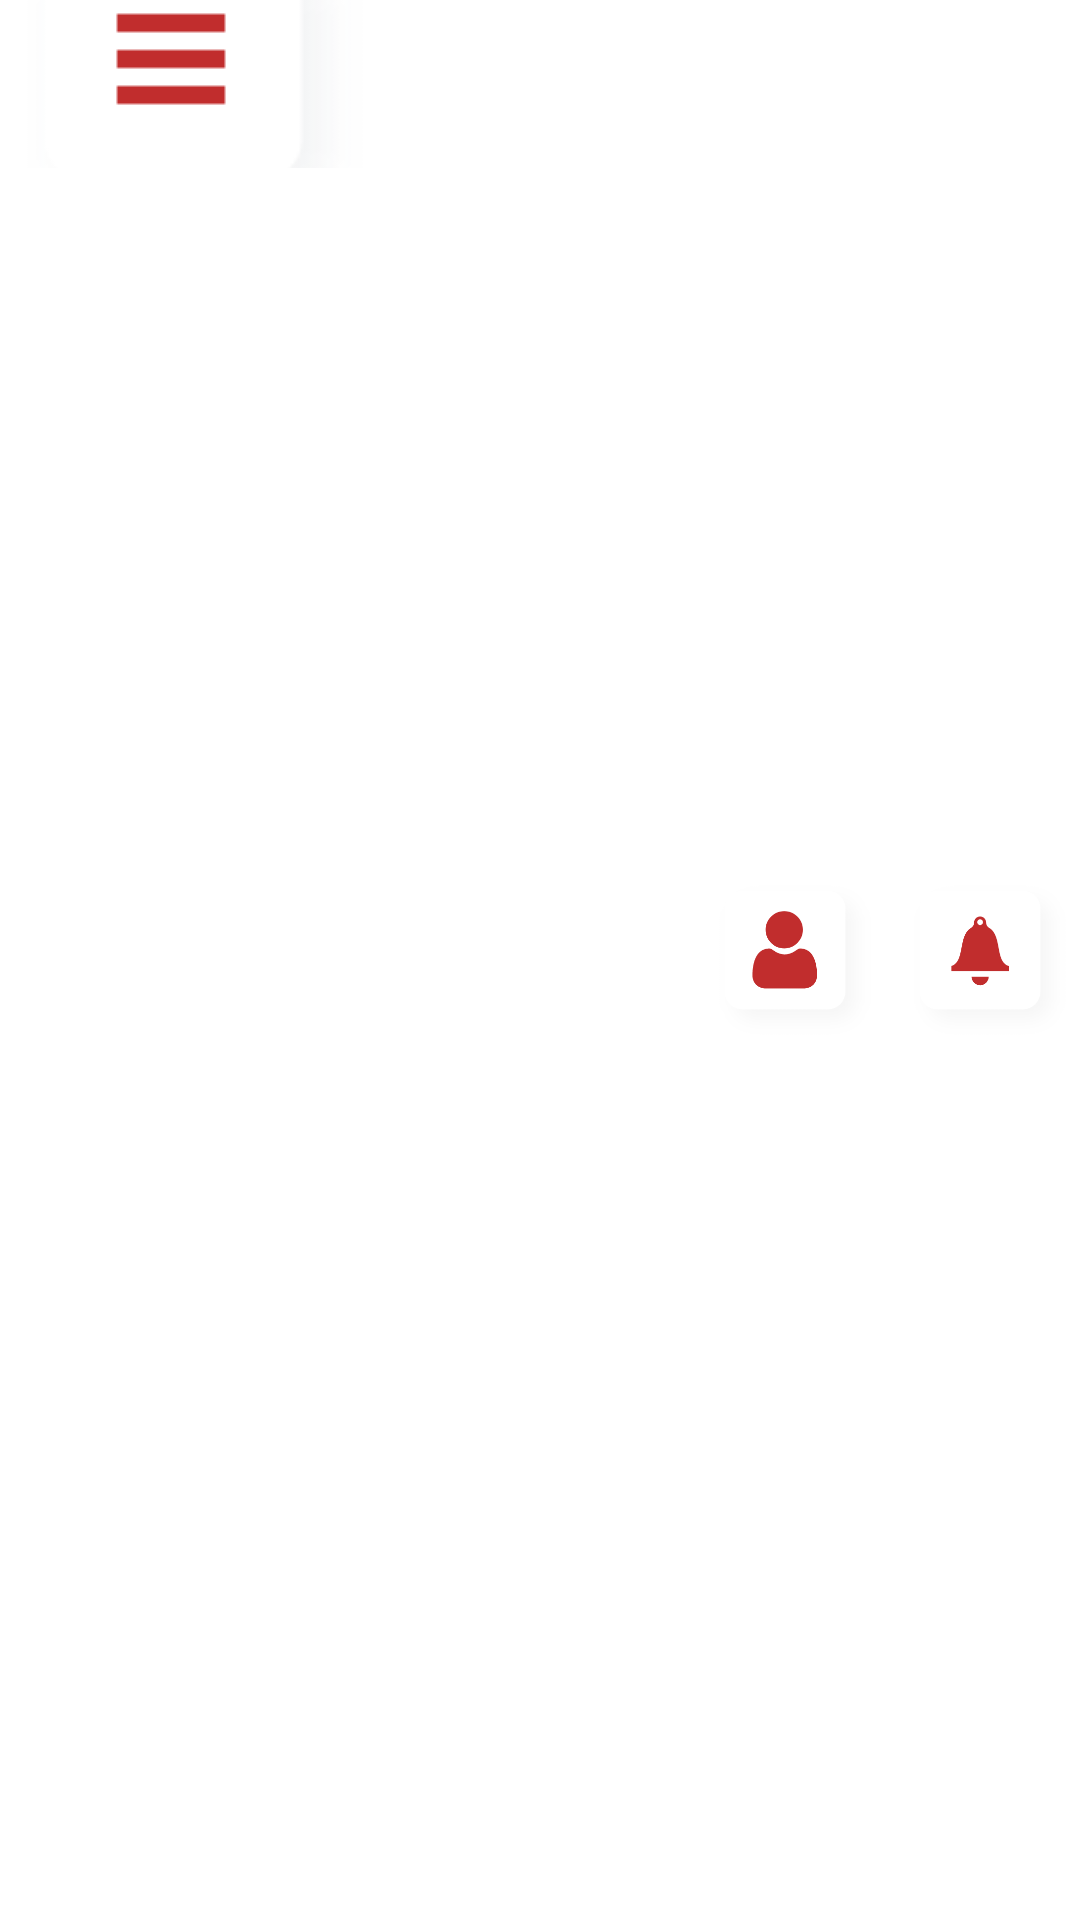

Point at icon controls on the screen. Image size 1080 x 1920, points as (x,y).
admin: (784,950)
notification: (980,951)
